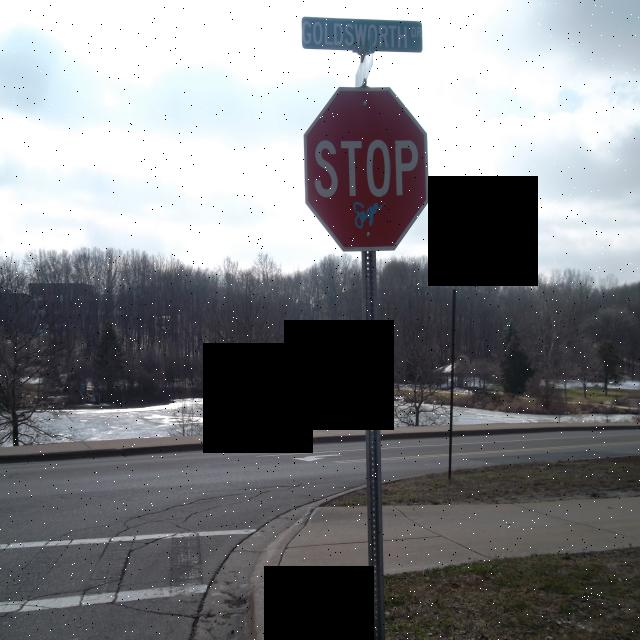stop: (303, 86, 429, 252)
